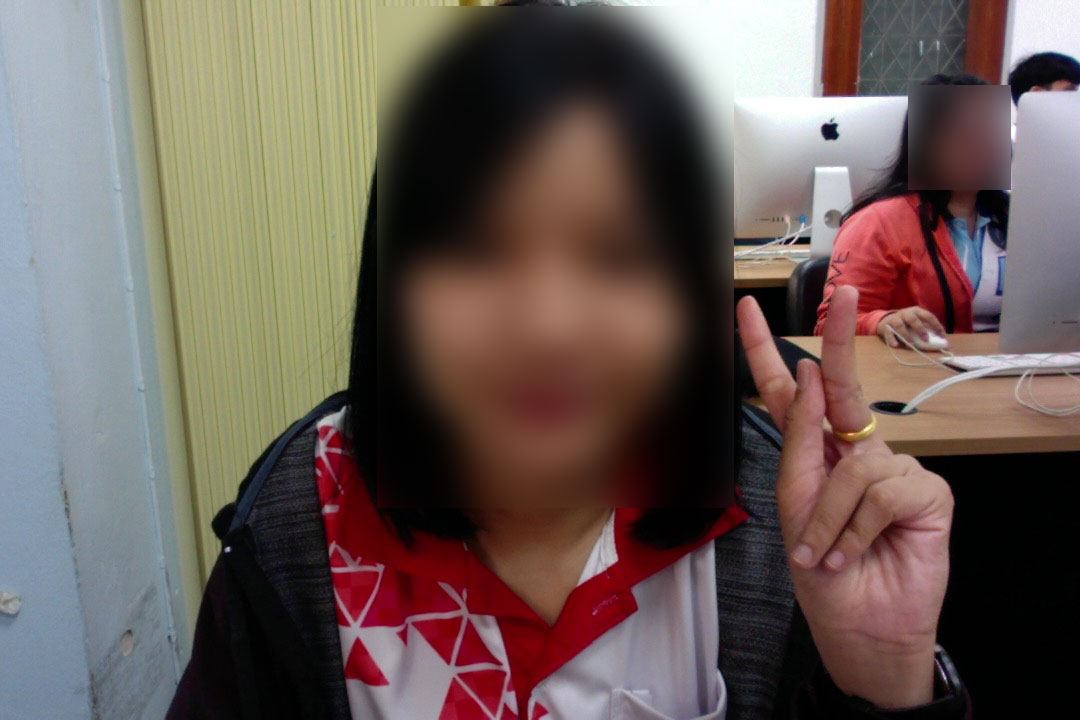ko: (723, 270, 960, 681)
